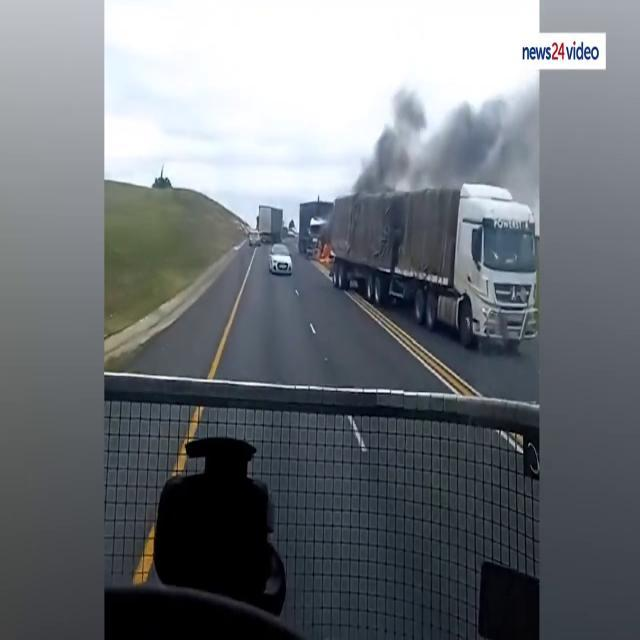Fire: (314, 238, 336, 278)
Smoke: (338, 51, 540, 217)
